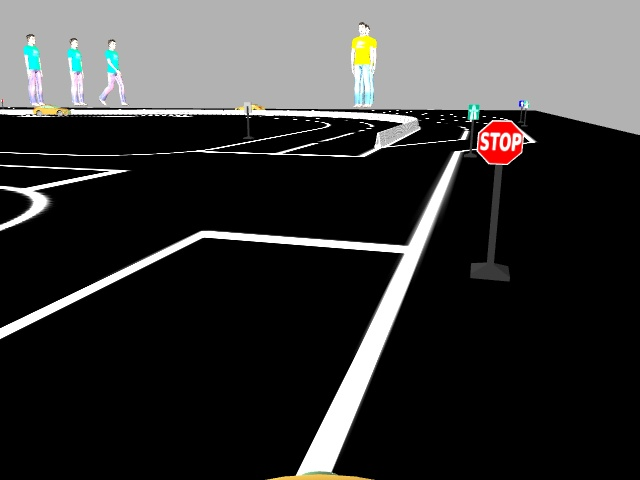Stop: (474, 119, 525, 166)
